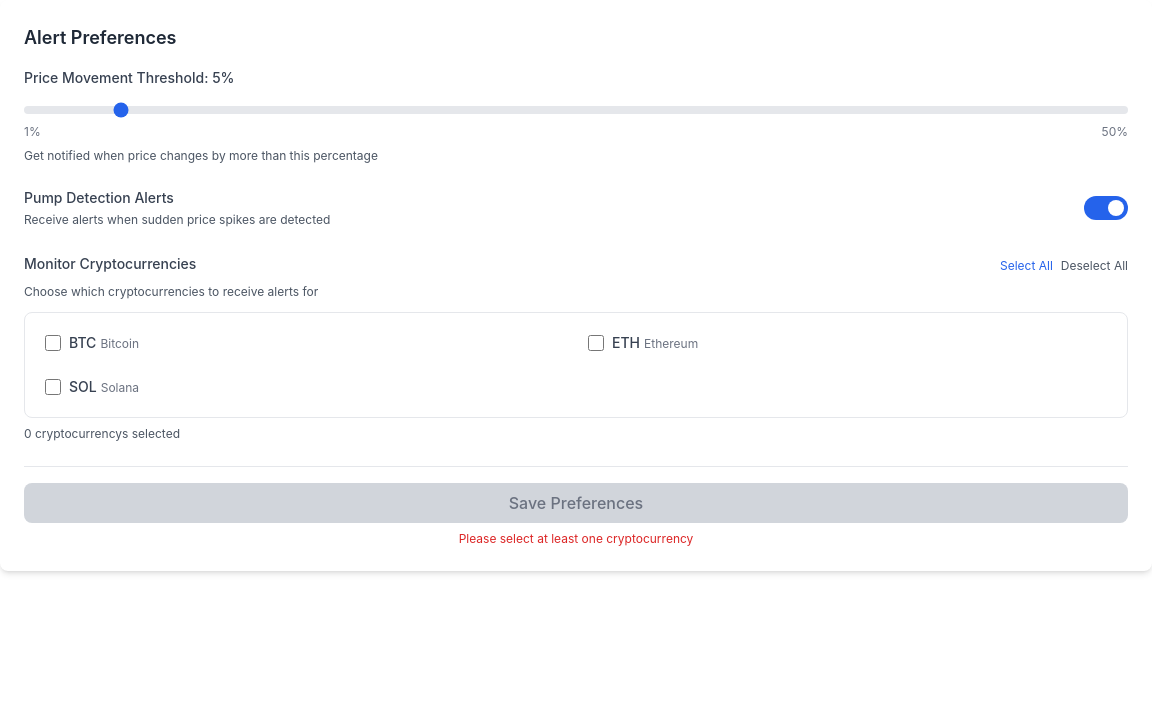
Test case: AlertPreferences › should enable save button when at least one cryptocurrency is selected
Check: the button "Save Preferences" is disabled, box [24,483,1128,523]
Select a cryptocurrency
Click the checkbox labelled "BTC" at (53, 343), box [45,335,61,351]
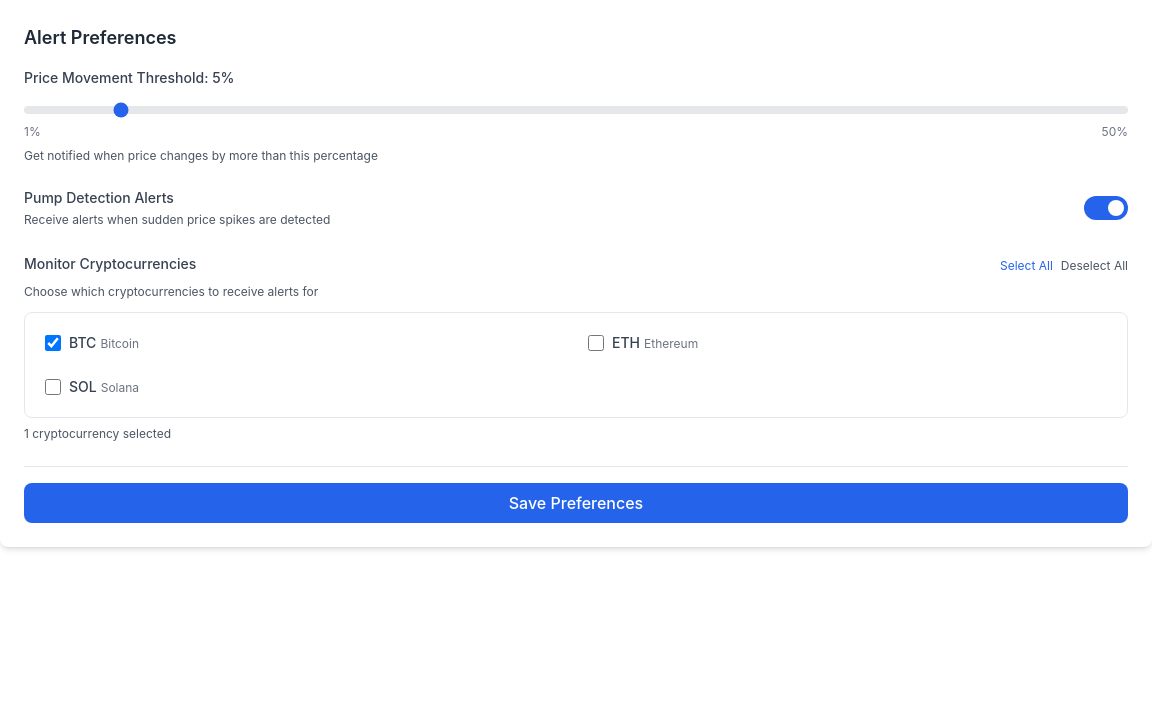
Check: the button "Save Preferences" is enabled, box [24,483,1128,523]
